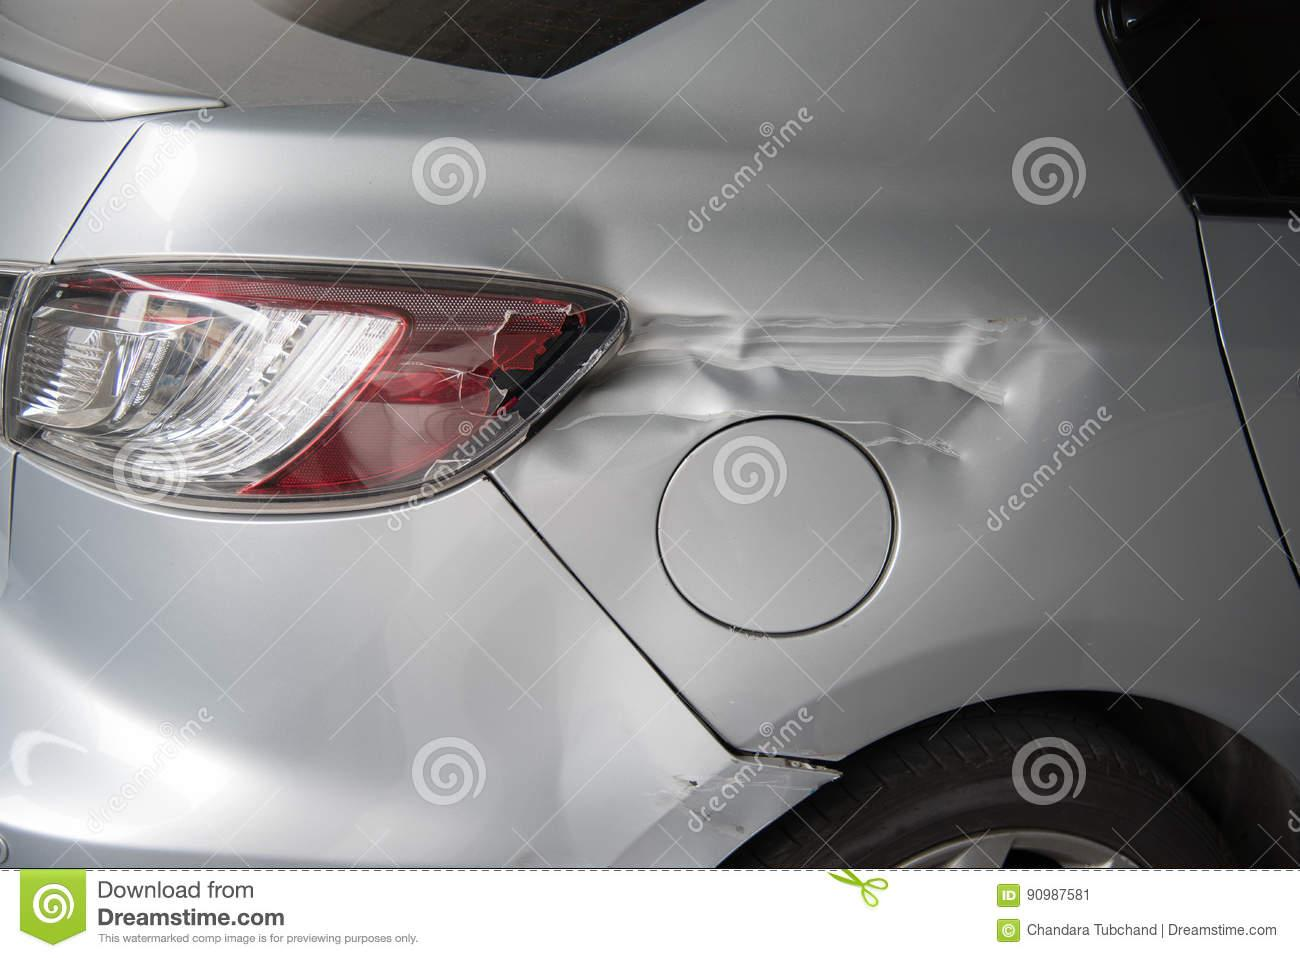Taillight-Damage: (7, 212, 656, 562)
quaterpanel-dent: (567, 199, 1279, 881)
rear-bumper-dent: (0, 444, 857, 870)
